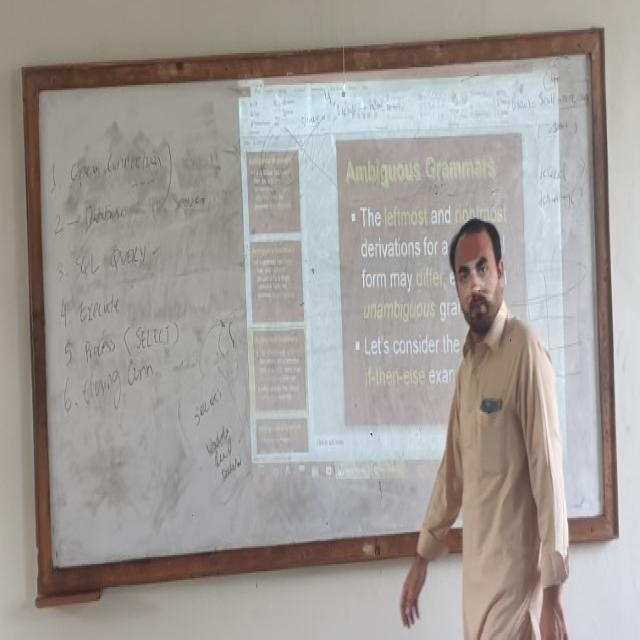Instructor: (431, 208, 562, 640)
Slide: (239, 51, 569, 499)
White-board: (29, 44, 616, 584)
